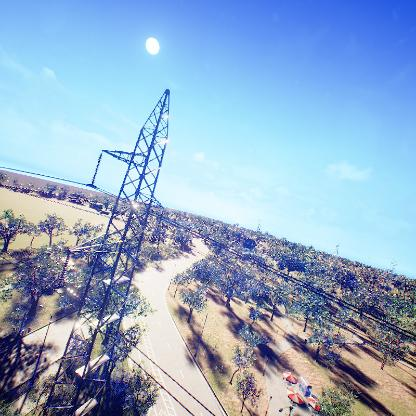tower: (49, 87, 175, 416)
